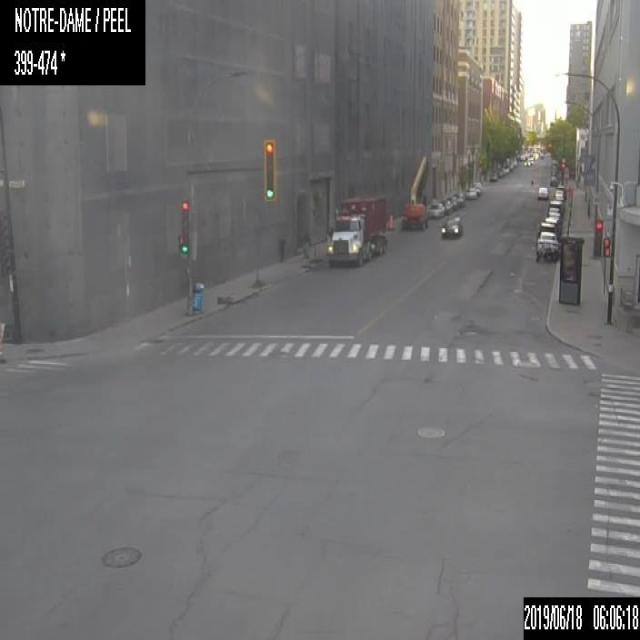construction: (388, 212, 393, 230)
vehicle: (328, 192, 386, 267), (402, 154, 430, 230), (534, 243, 560, 261), (440, 216, 462, 237), (535, 230, 558, 250), (537, 221, 557, 236), (427, 202, 445, 218), (451, 191, 465, 205), (438, 198, 452, 212), (546, 199, 563, 210), (544, 216, 560, 227), (445, 195, 457, 209), (536, 185, 548, 198), (552, 189, 565, 201), (548, 210, 562, 220), (556, 184, 566, 198), (548, 205, 562, 213), (489, 171, 497, 181), (550, 174, 558, 184), (523, 158, 531, 166)
